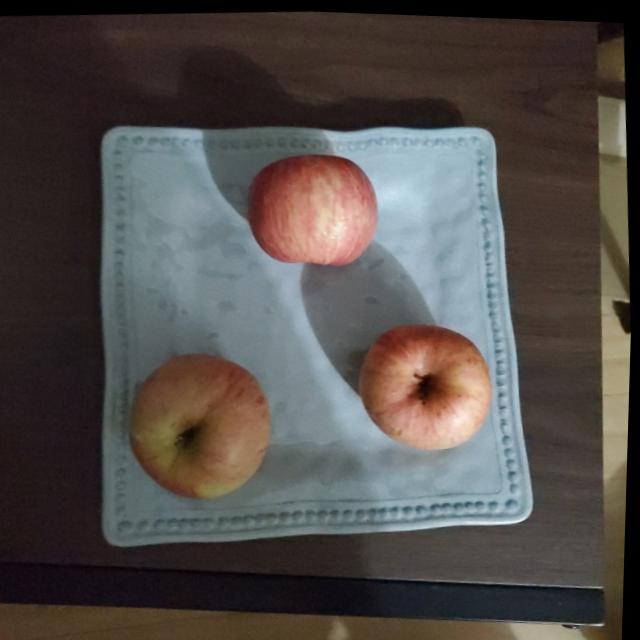apple: (131, 352, 282, 506), (357, 319, 499, 455), (246, 147, 386, 270)
